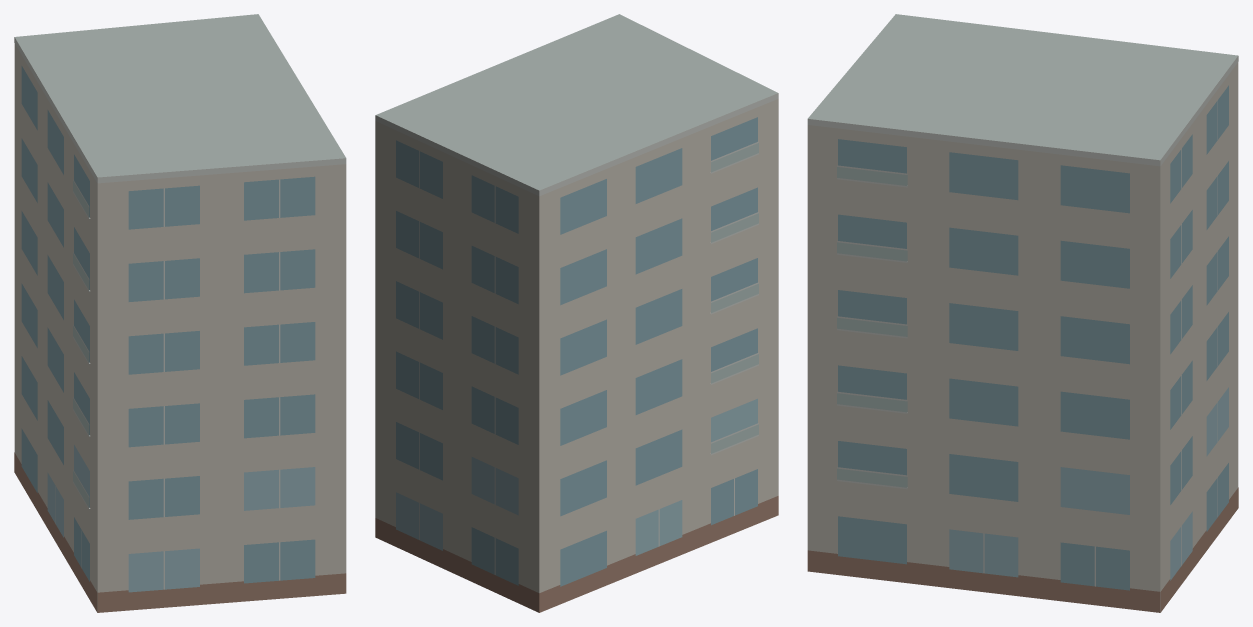
Rendered from survey-upis-32868393.glb.
The picture shows the model from 3 angles, left to right: view 1: azimuth 30°, elevation 25°; view 2: azimuth 150°, elevation 25°; view 3: azimuth 270°, elevation 25°; orthographic projection. The views are drawn at different scales.
Visible parts, largest first — view 1: survey-upis-32868393.tmp; view 2: survey-upis-32868393.tmp; view 3: survey-upis-32868393.tmp.
Part boxes in pixels (left/top/right/bottom): survey-upis-32868393.tmp: left=14, top=14, right=346, bottom=612; survey-upis-32868393.tmp: left=375, top=14, right=778, bottom=612; survey-upis-32868393.tmp: left=807, top=14, right=1238, bottom=612.
Bounding box in the file's own units: 12.48 × 18 × 15.54.
